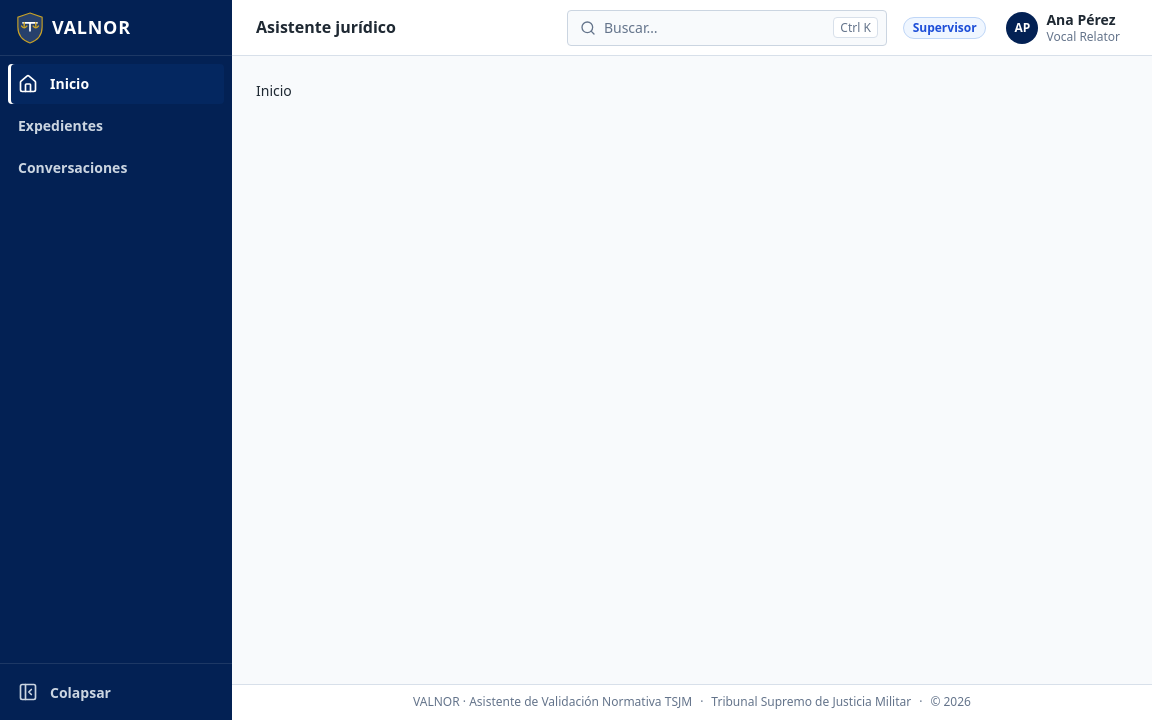
Test: AppShell TopBar › Ctrl+K abre la búsqueda global y Escape la cierra
Press k
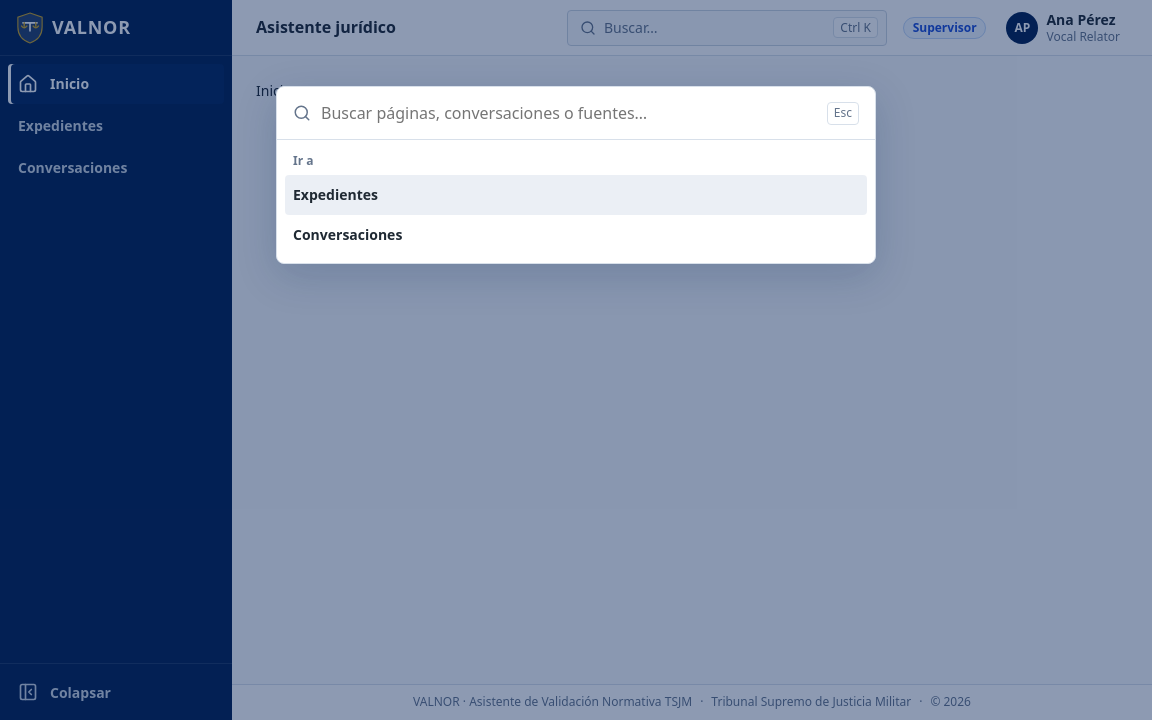
In the dropdown: coordinates (569, 113) left=319, top=87, right=819, bottom=139, type "expe"
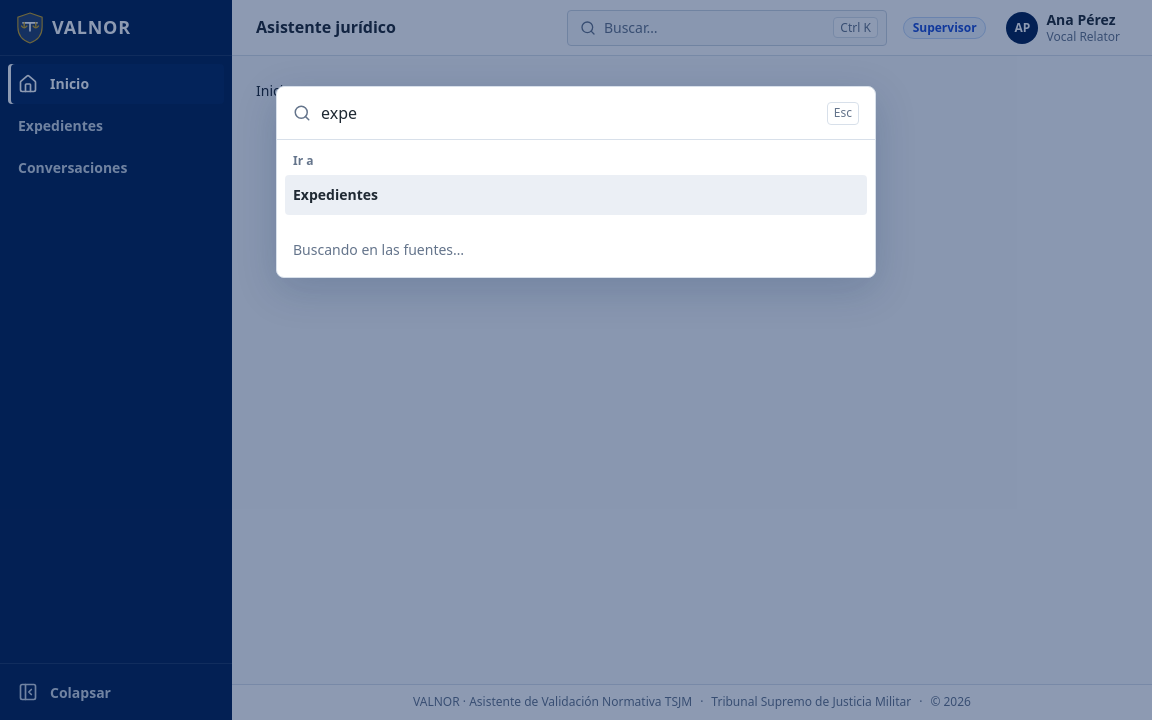
Check: the option "Expedientes" is shown, box left=285, top=175, right=867, bottom=215
Press Escape in the dropdown, box left=319, top=87, right=819, bottom=139
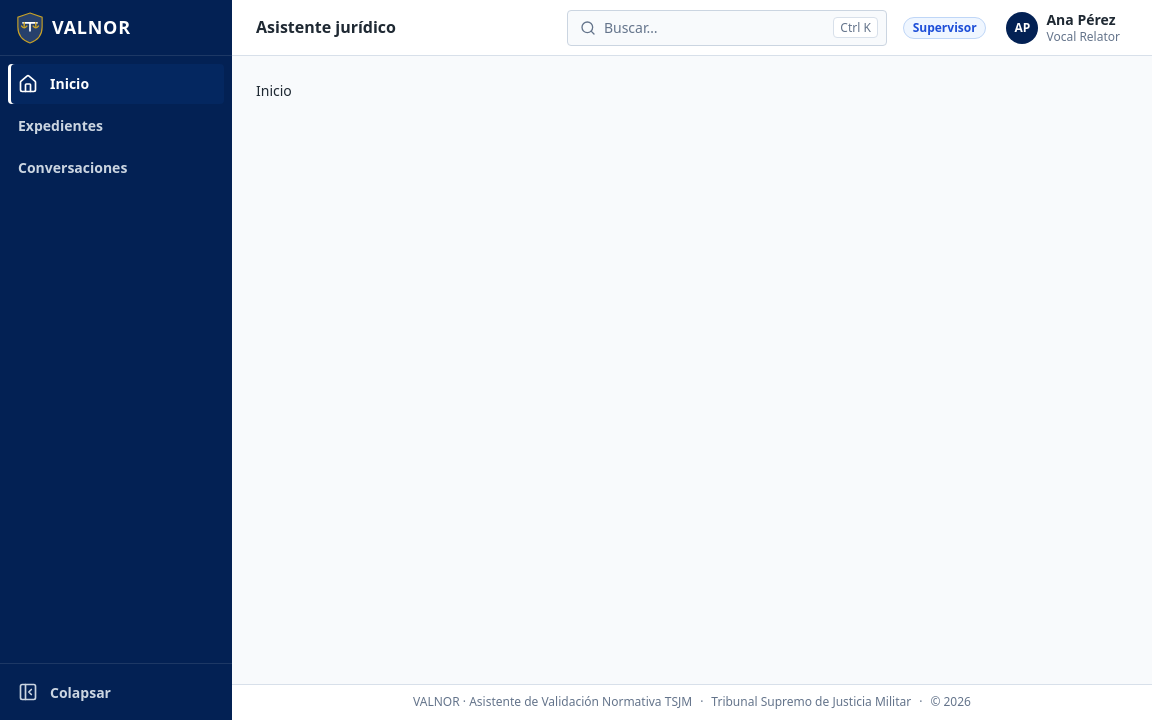
Check: the dropdown is gone
